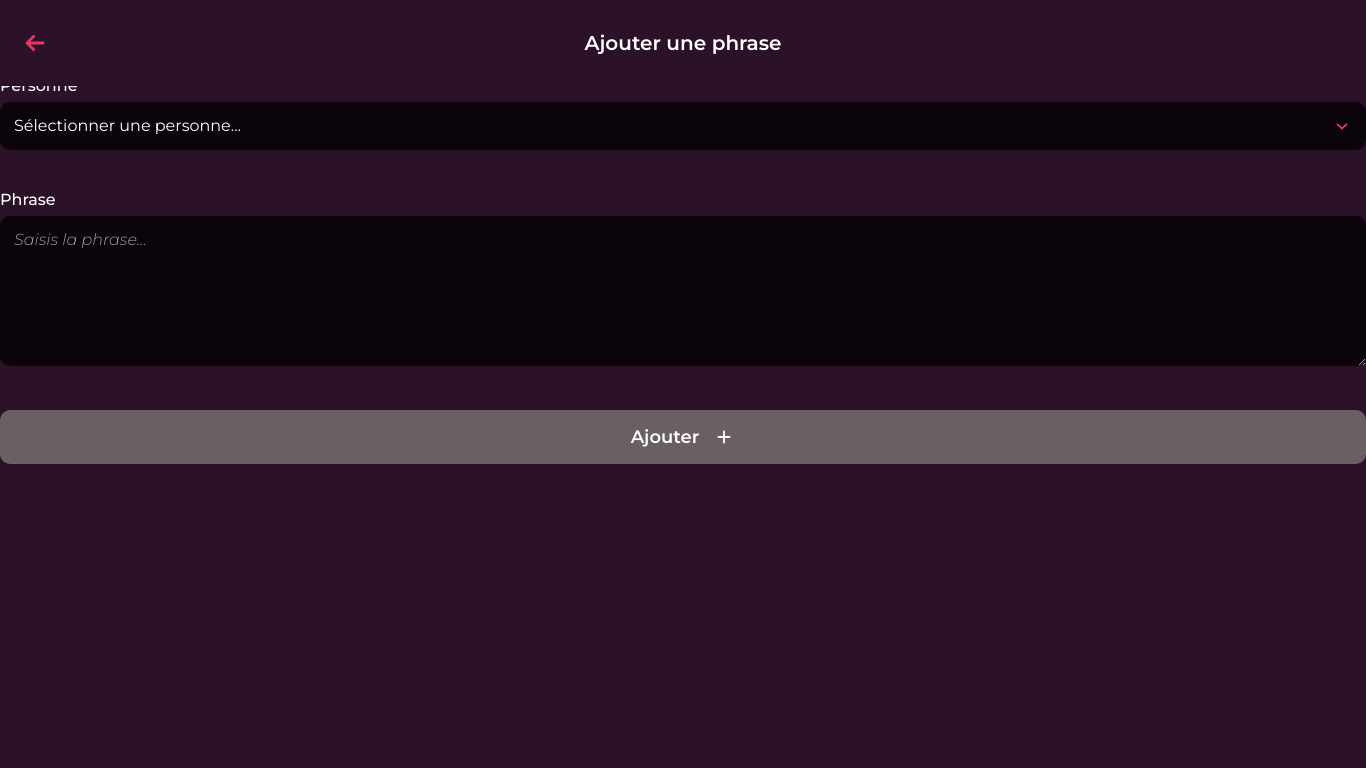
Test: sentences/components/SentenceFormPage › should save in browser storage waiting to be sent
Select "Ange Lefebvre" in the dropdown with test id "FieldSelect" at (683, 126), box 0,102 -> 1365,150
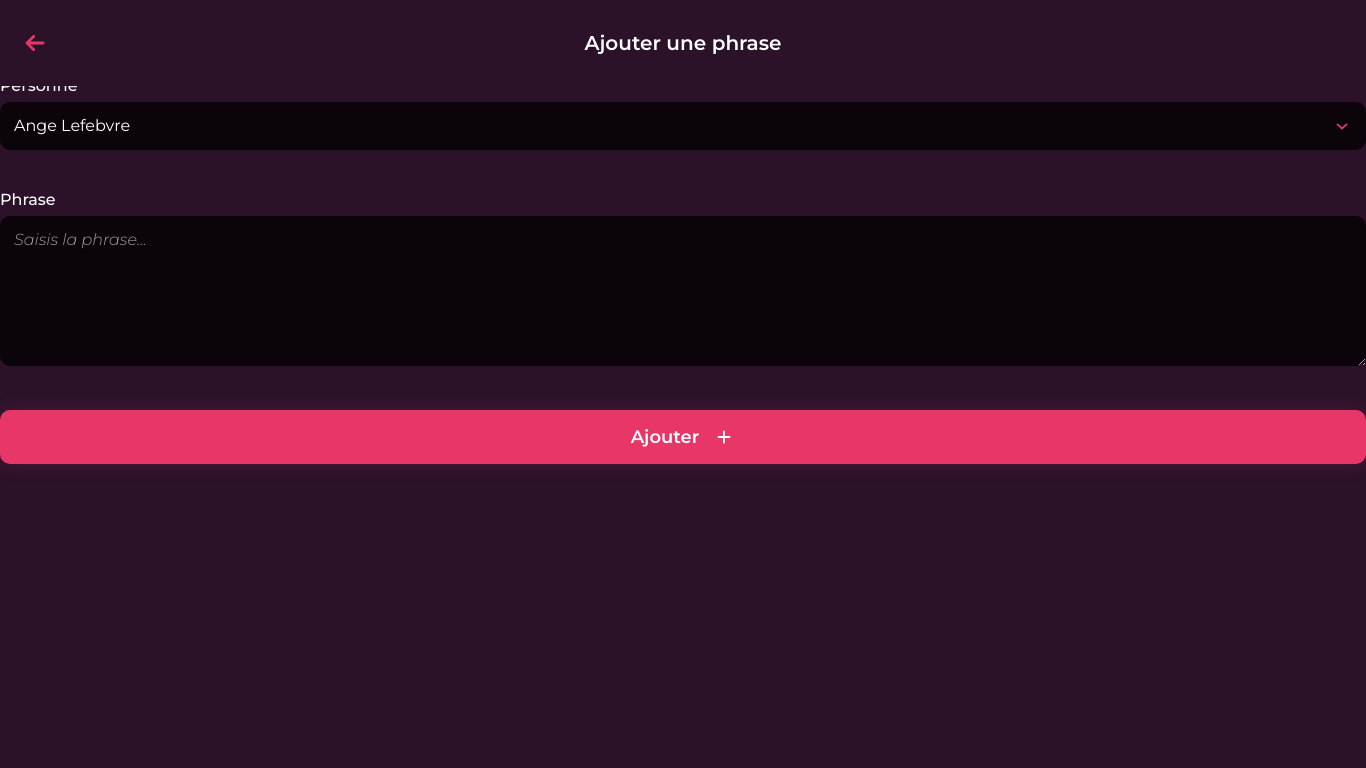
Type "A funny sentence." into the text box with test id "Textarea" at (683, 291), box 0,216 -> 1365,366
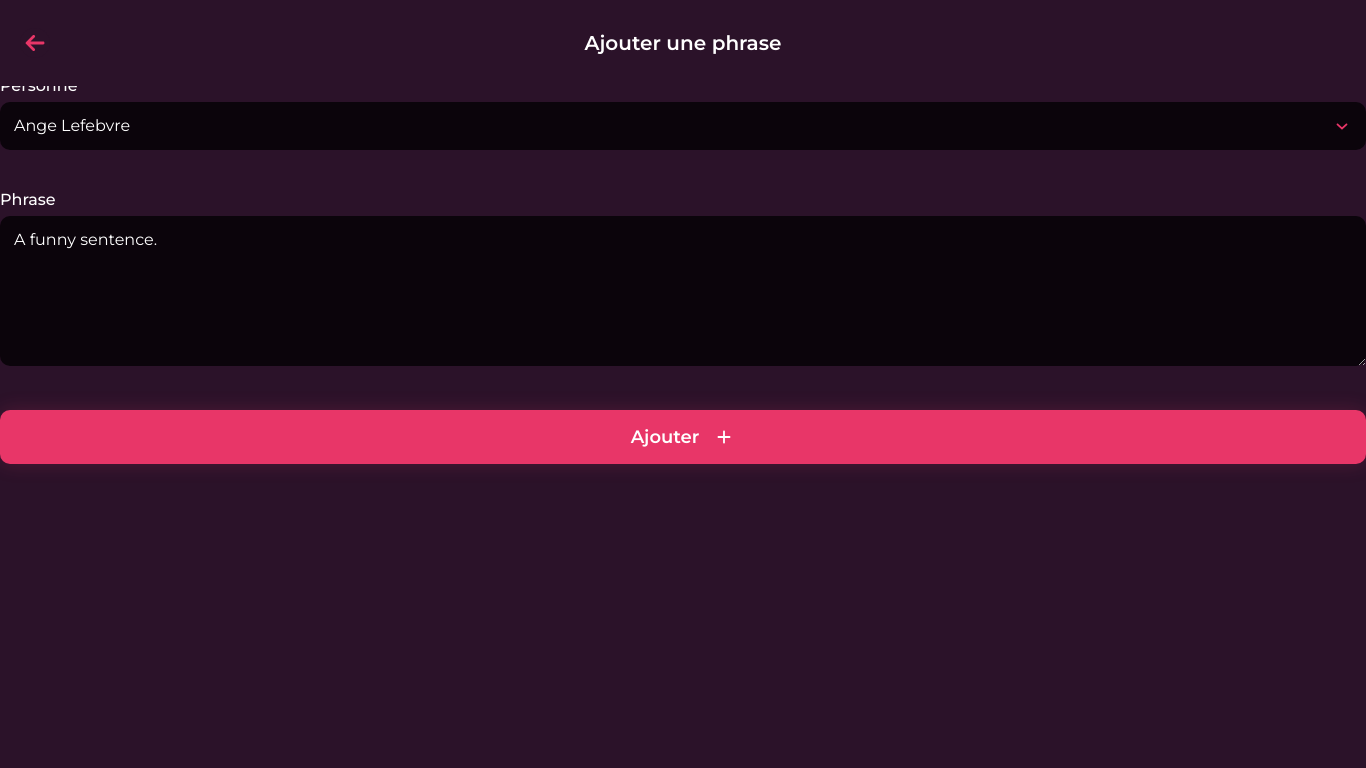
Click the button with aria-label "Ajouter la phrase" at (683, 437), box 0,410 -> 1365,464
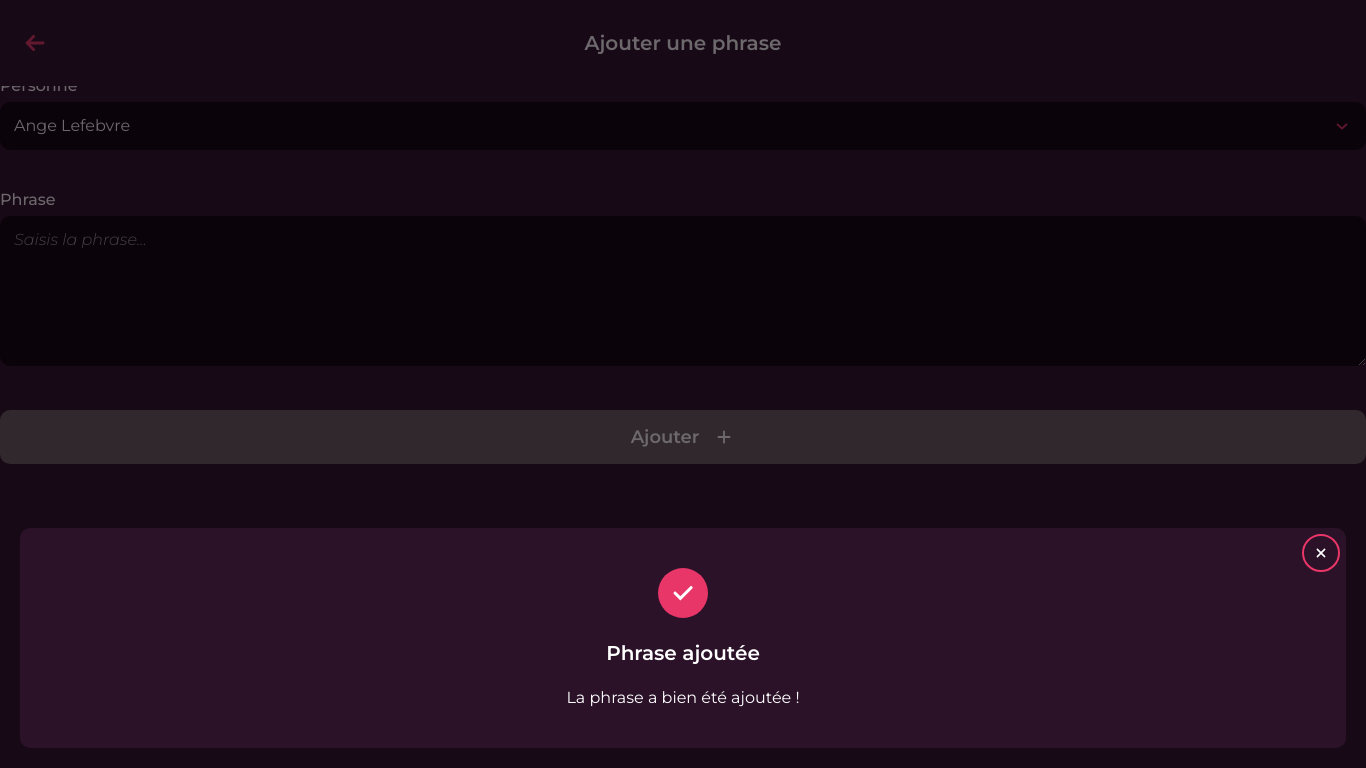
Expected: the button with aria-label "Ajouter la phrase" is disabled, 0,410 -> 1365,464
Expected: the text box with test id "Textarea" is empty, 0,216 -> 1365,366
